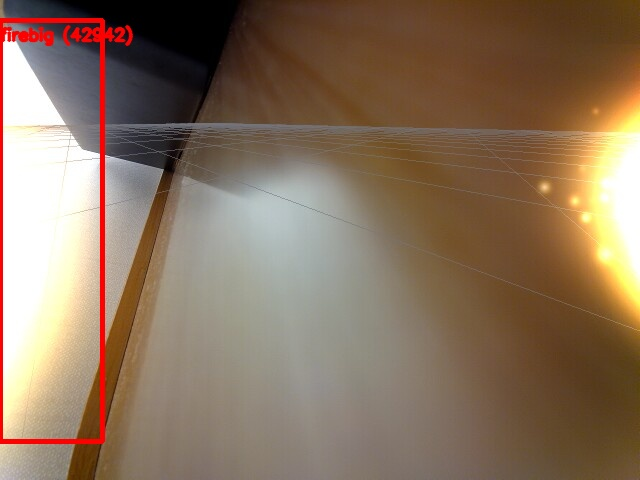firebig: (0, 20, 102, 441)
